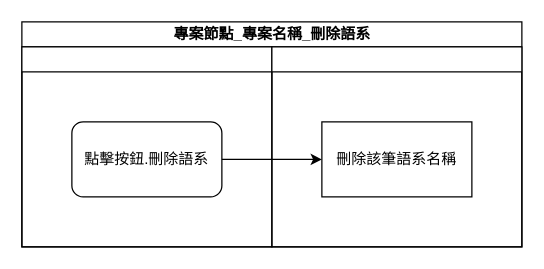
The diagram is 544 pixels wide and 269 high, and some of its shapes have lost their labels. The shapes that lost their labels are listed below. From the top down, each one's box as (x1, y1, x2, y2) in pixels, then its label:
(21, 46, 272, 247): Site管理員
(271, 46, 522, 247): 表單.系統管理
